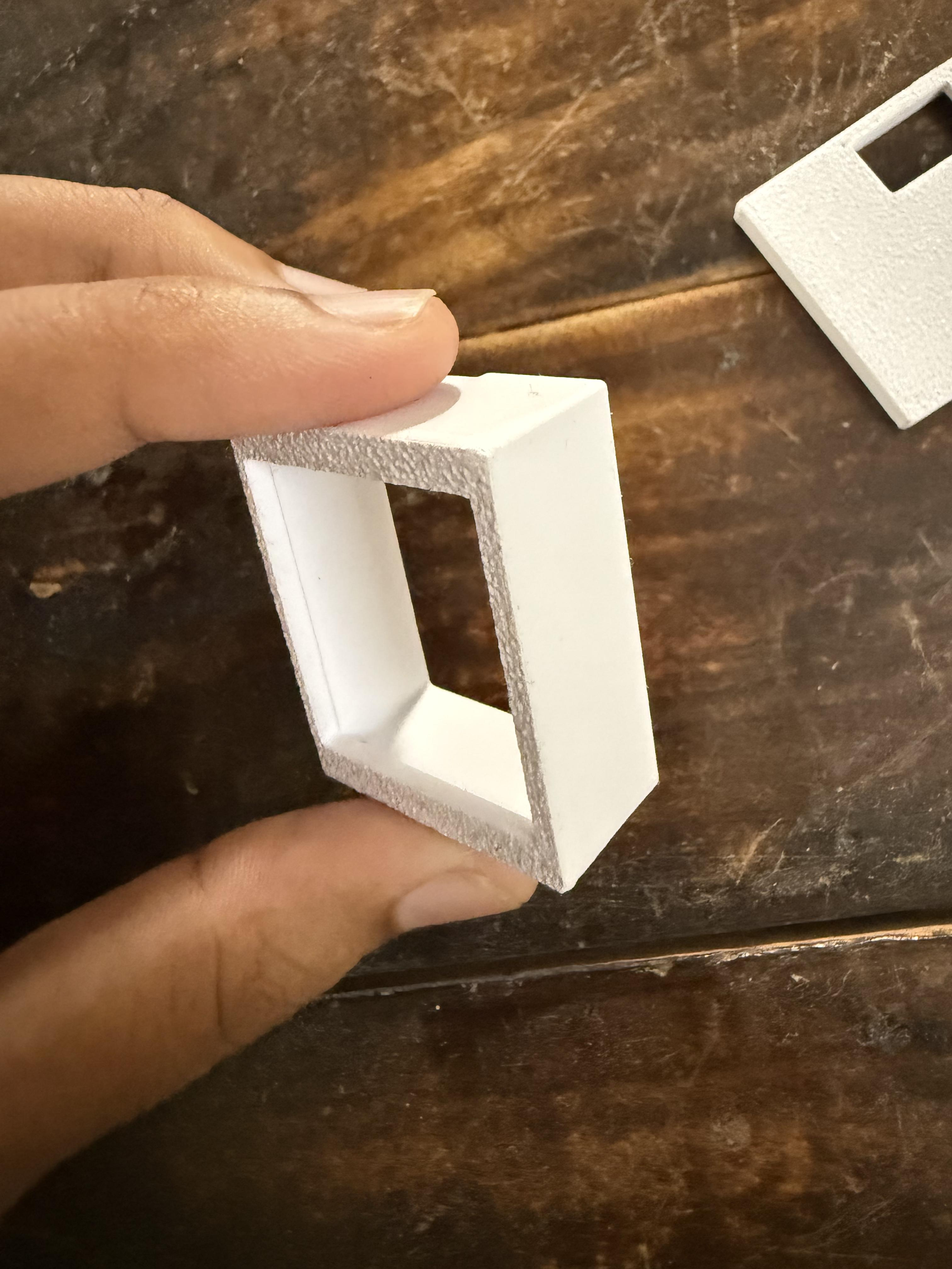enclosure: (231, 372, 660, 894), (710, 42, 952, 439)
